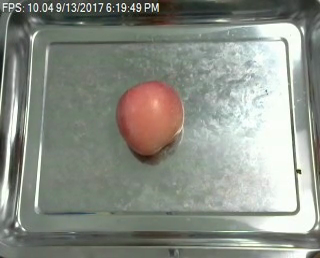Apple: (113, 79, 188, 156)
